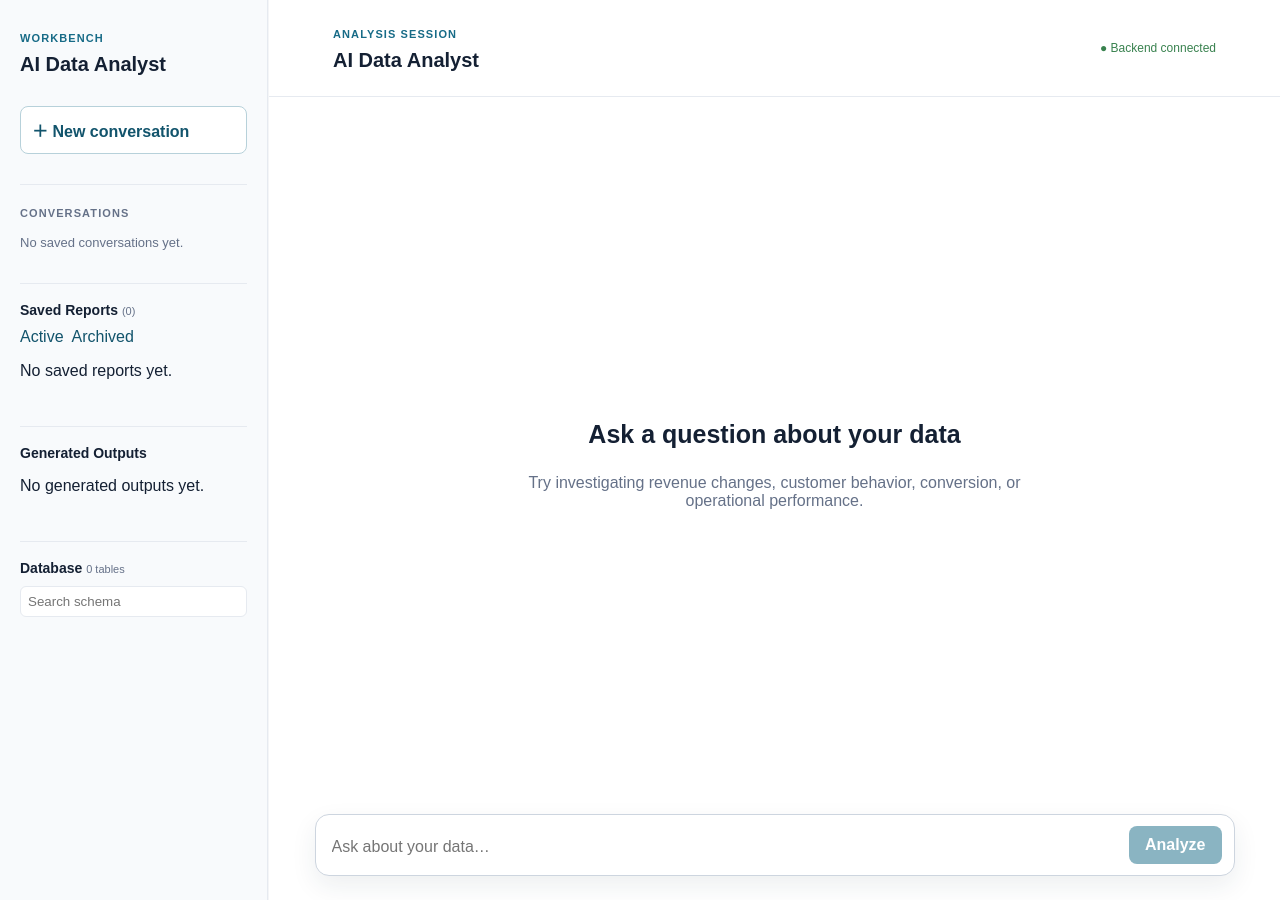
Test: Workbench › shows a backend error without adding an assistant response
Step 1. Type "Analyze revenue" into the text box labelled "Ask about your data" → [724, 846], box [332,829,1117,864]
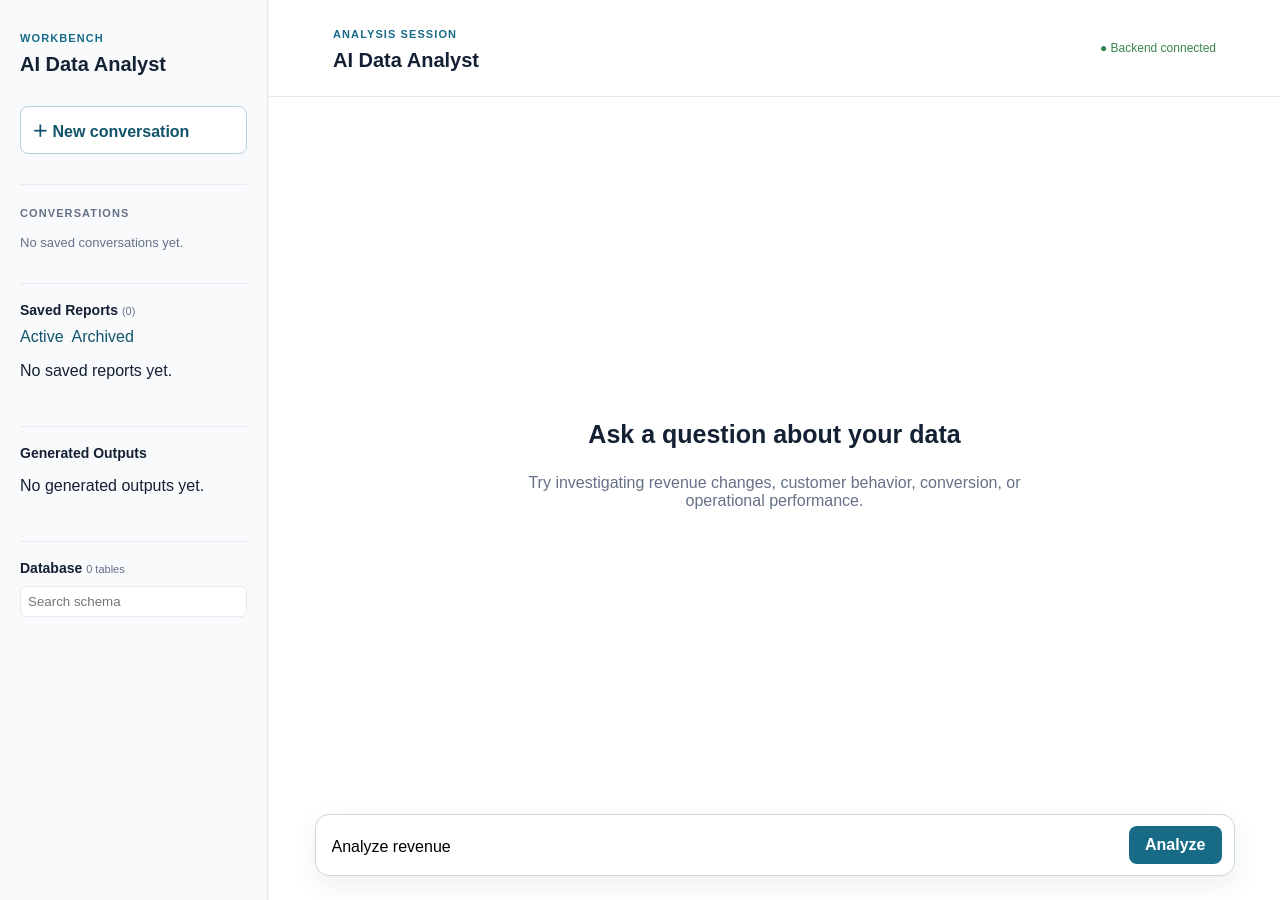
Step 2. Click the button "Analyze" → [1175, 845], box [1129,826,1222,864]
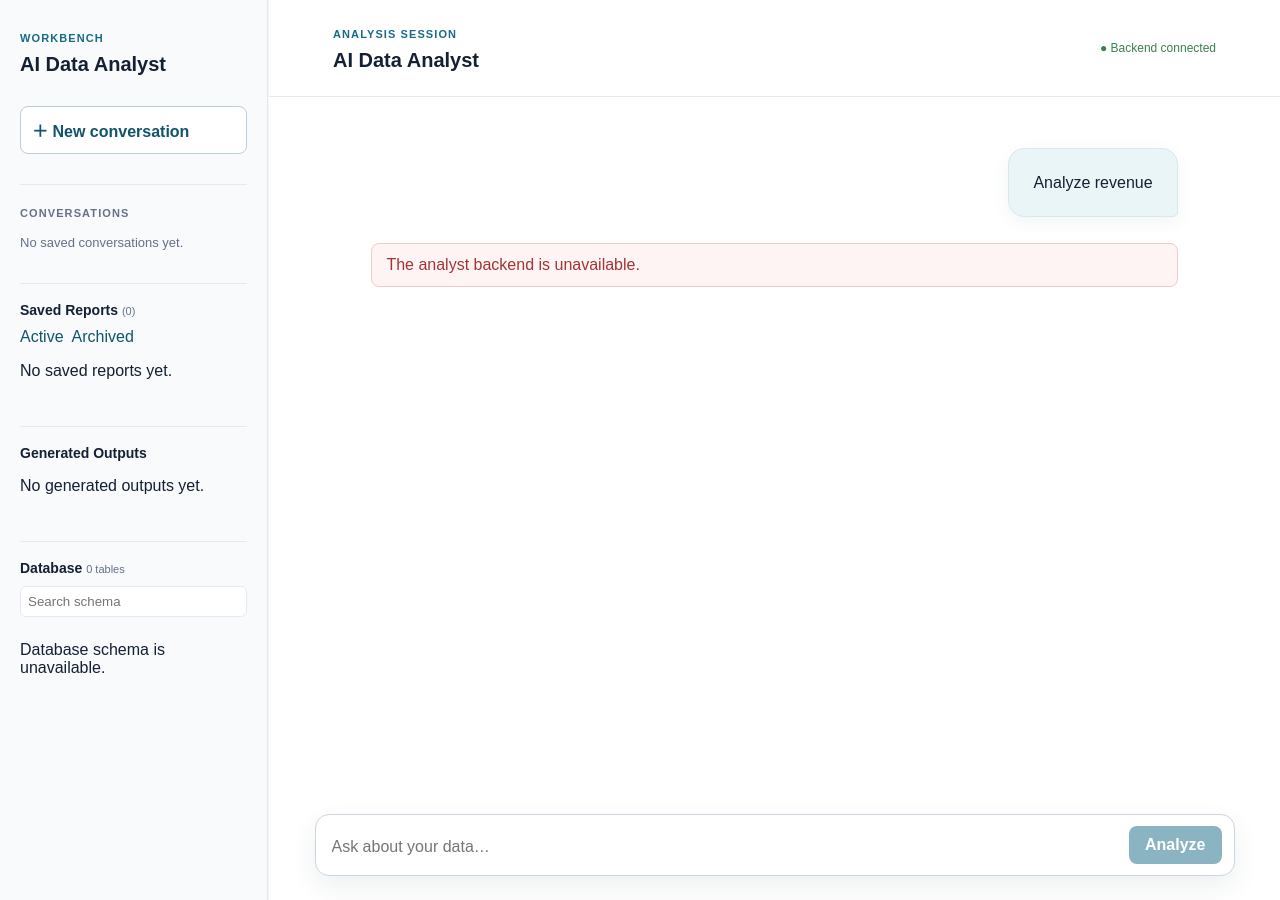
expect the message reads "The analyst backend is unavailable.": met, box [386,256,640,273]
